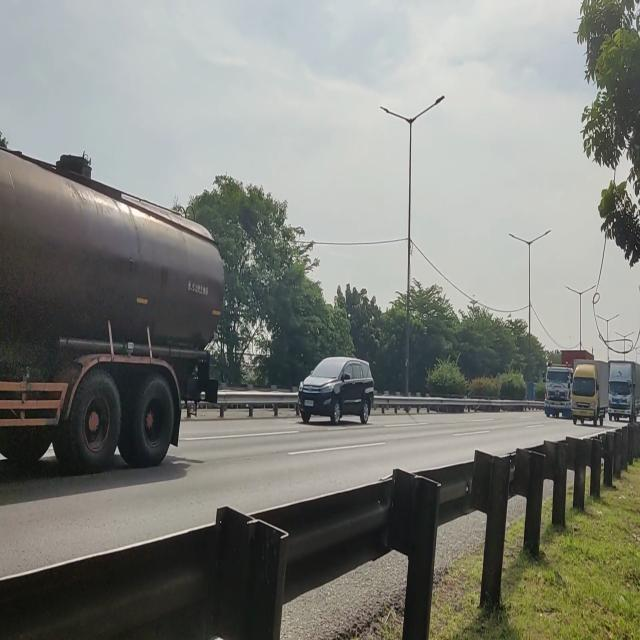Golongan I: (292, 347, 378, 429)
